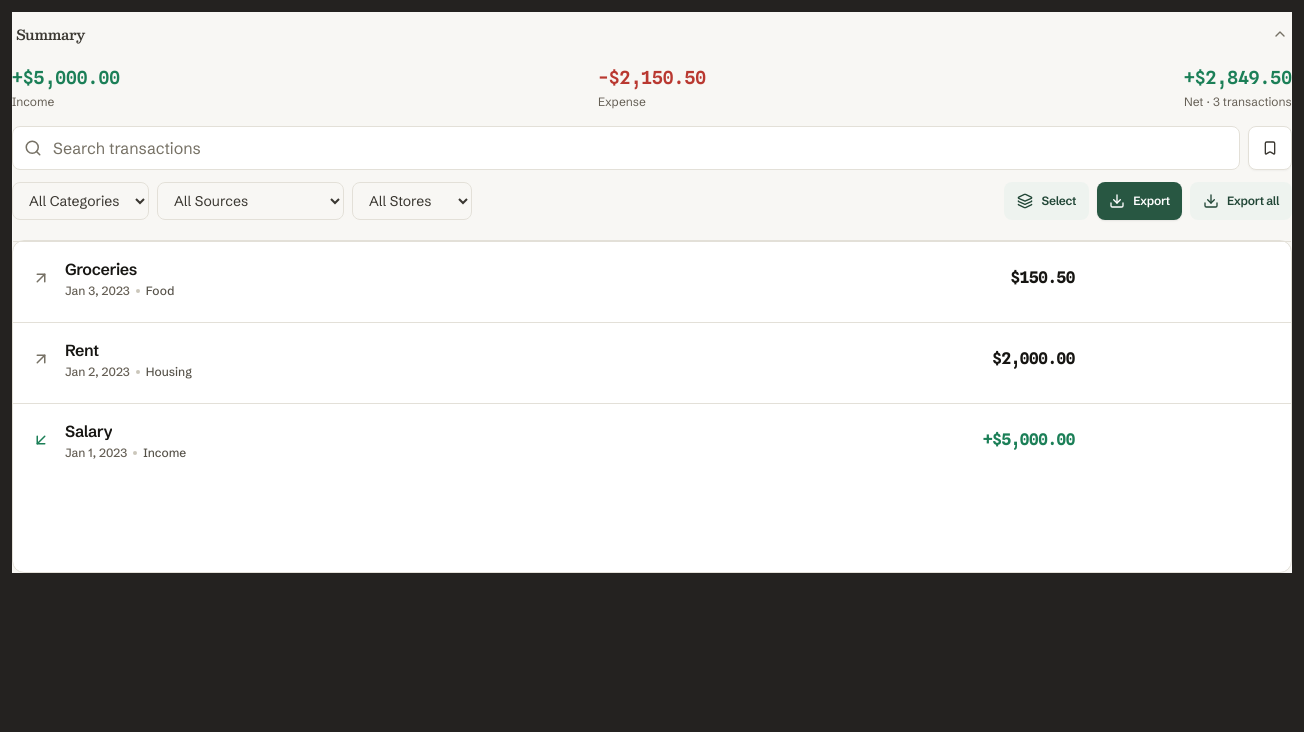
Scenario: TransactionMasterList Summary Widget › updates summary when filtered by search
// Filter to only 'Rent'
Type "Rent" into the field with placeholder "Search transactions" at (626, 148), box [12,126,1240,170]
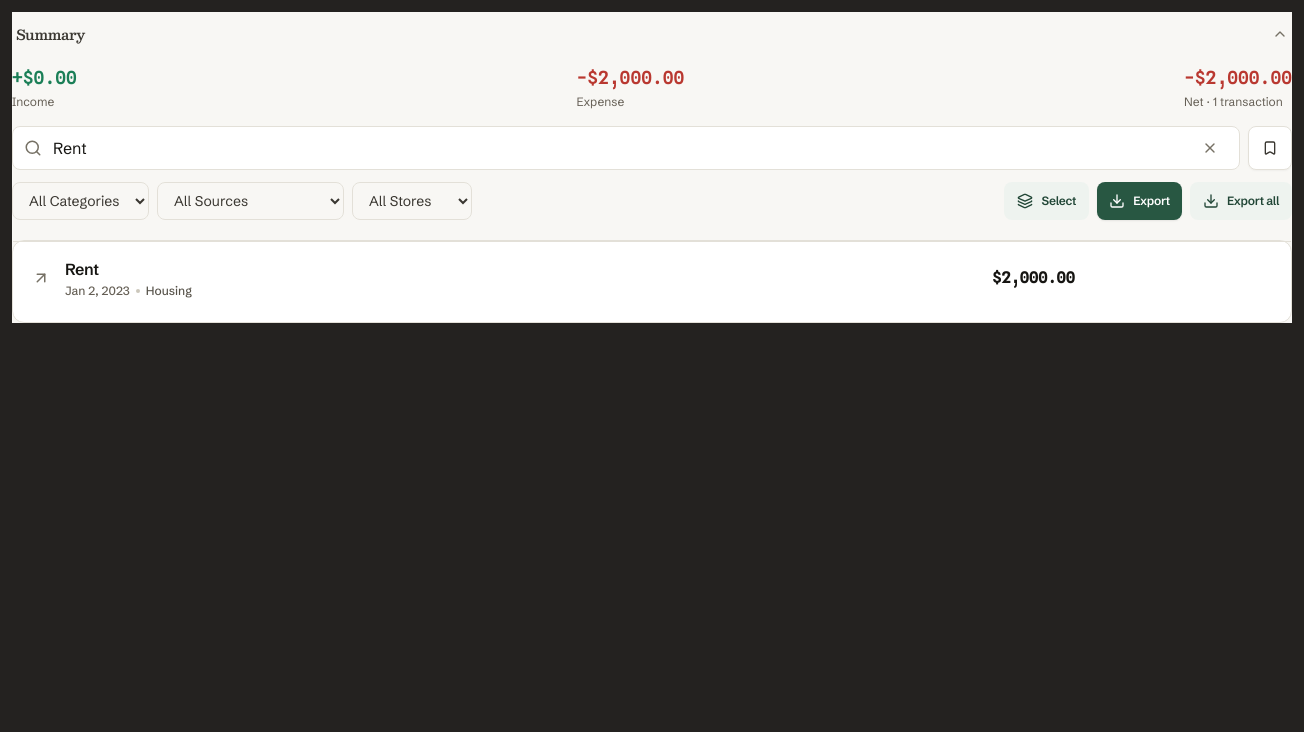
Expected: the text "+$0.00" is shown, [12,64,77,92]
Expected: the text "Net · 1 transaction" is shown, [1184,94,1292,110]
